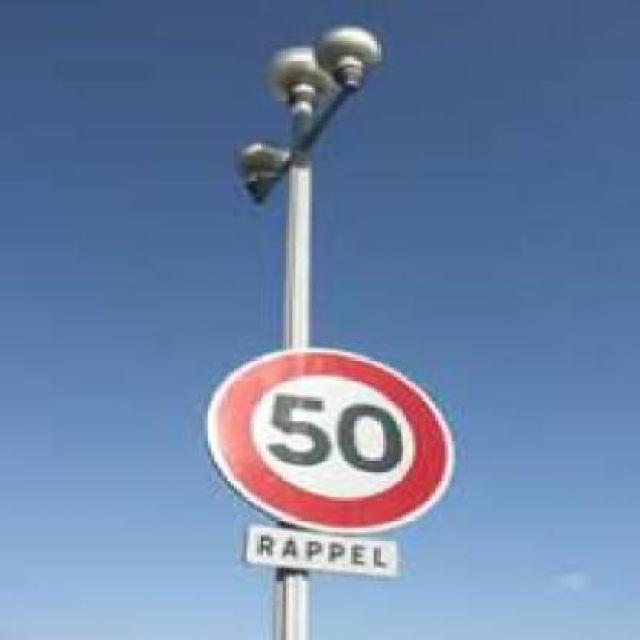Speed limit 50: (204, 344, 458, 535)
